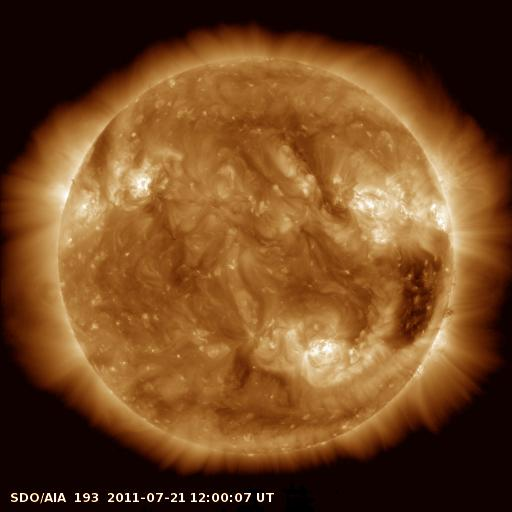coronal_hole: (379, 251, 445, 350)
